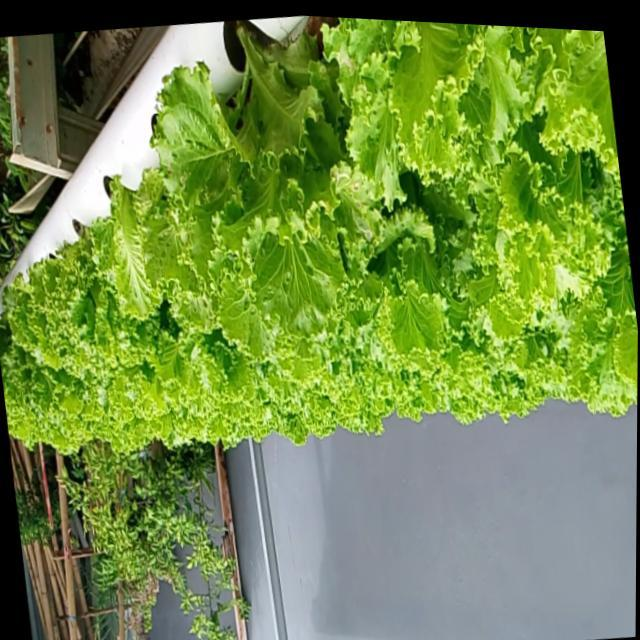Mature: (144, 19, 365, 354), (26, 214, 140, 381)
